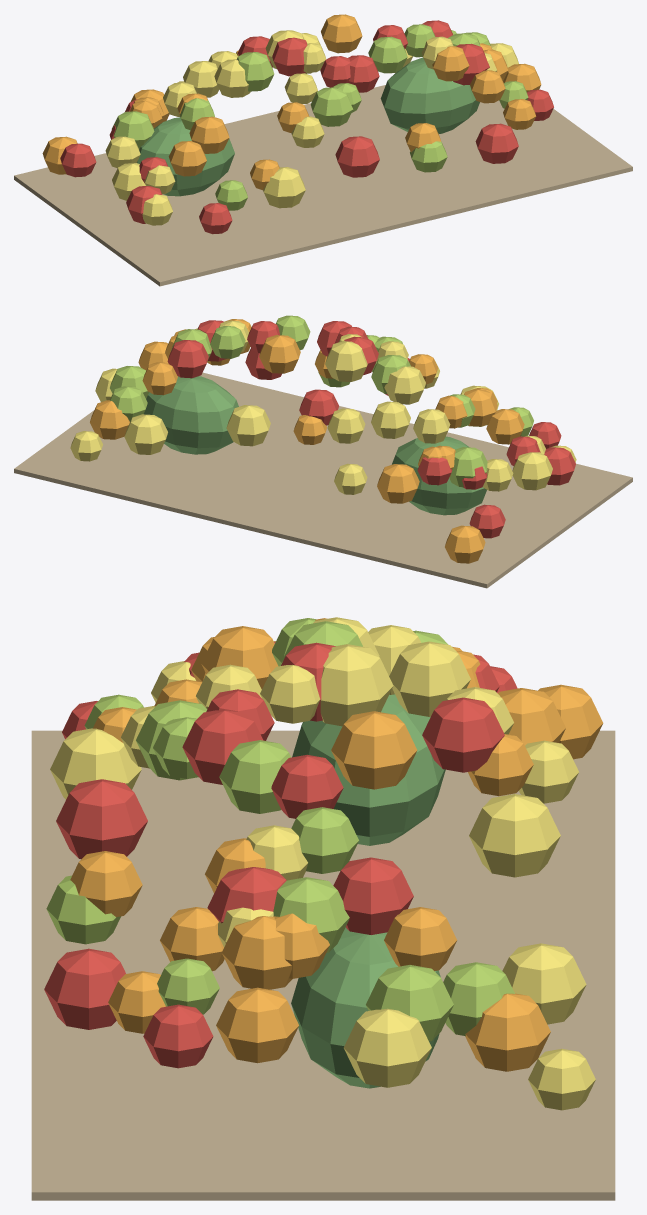
Rendered from dm_producepile.glb.
3 renders of one model, top to bottom at view 1: azimuth 30°, elevation 25°; view 2: azimuth 150°, elevation 25°; view 3: azimuth 270°, elevation 25°, orthographic. The views are drawn at different scales.
Parts seen in each view (by area): view 1: dm_producepile; view 2: dm_producepile; view 3: dm_producepile.
Part boxes in pixels (x1,y1,x2,y2): dm_producepile: (14,14,632,286); dm_producepile: (14,315,632,588); dm_producepile: (31,617,615,1200).
Size of the model in its own units: 1.18 by 0.3509 by 0.63.
